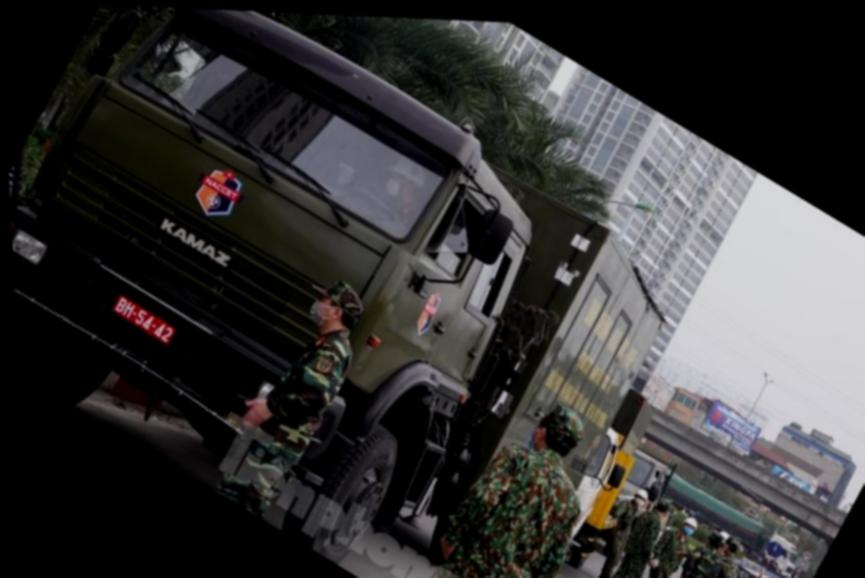License_Plate: (108, 295, 182, 352)
